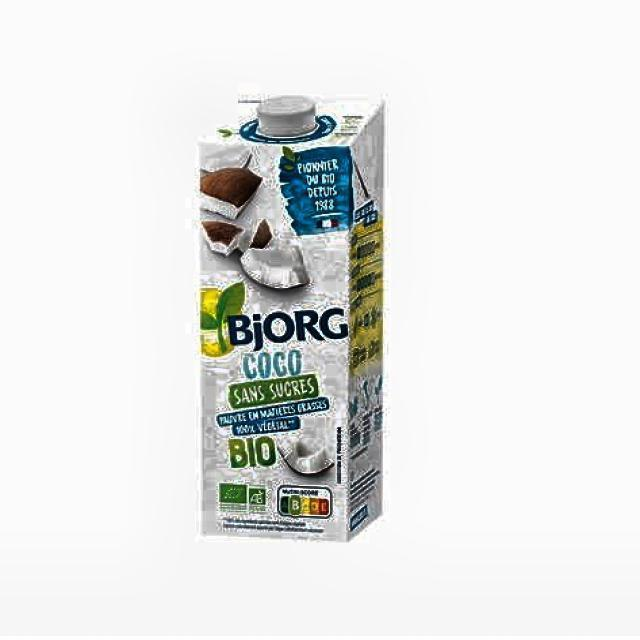cardboard: (196, 92, 386, 541)
